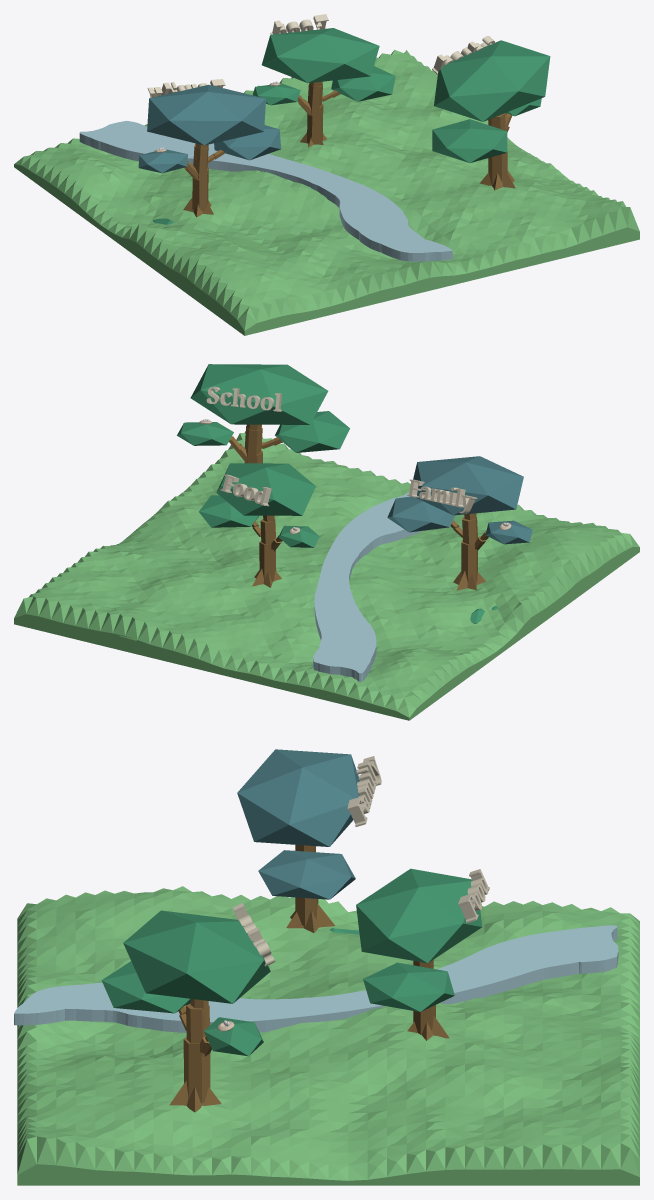
Rendered from TorieGratitudeTree.glb.
3 views of the same model, one above another, from view 1: azimuth 30°, elevation 25°; view 2: azimuth 150°, elevation 25°; view 3: azimuth 270°, elevation 25° (orthographic). The views are drawn at different scales.
Visible parts, largest first — view 1: Mesh_Mesh_head_geo.001_lambert2SG.001; view 2: Mesh_Mesh_head_geo.001_lambert2SG.001; view 3: Mesh_Mesh_head_geo.001_lambert2SG.001.
Boxes of the visible parts, x1,y1,x2,y2 form: Mesh_Mesh_head_geo.001_lambert2SG.001: (14,14,639,335); Mesh_Mesh_head_geo.001_lambert2SG.001: (14,364,639,720); Mesh_Mesh_head_geo.001_lambert2SG.001: (14,749,639,1185).
Size of the model in its own units: 197 by 73.69 by 200.
